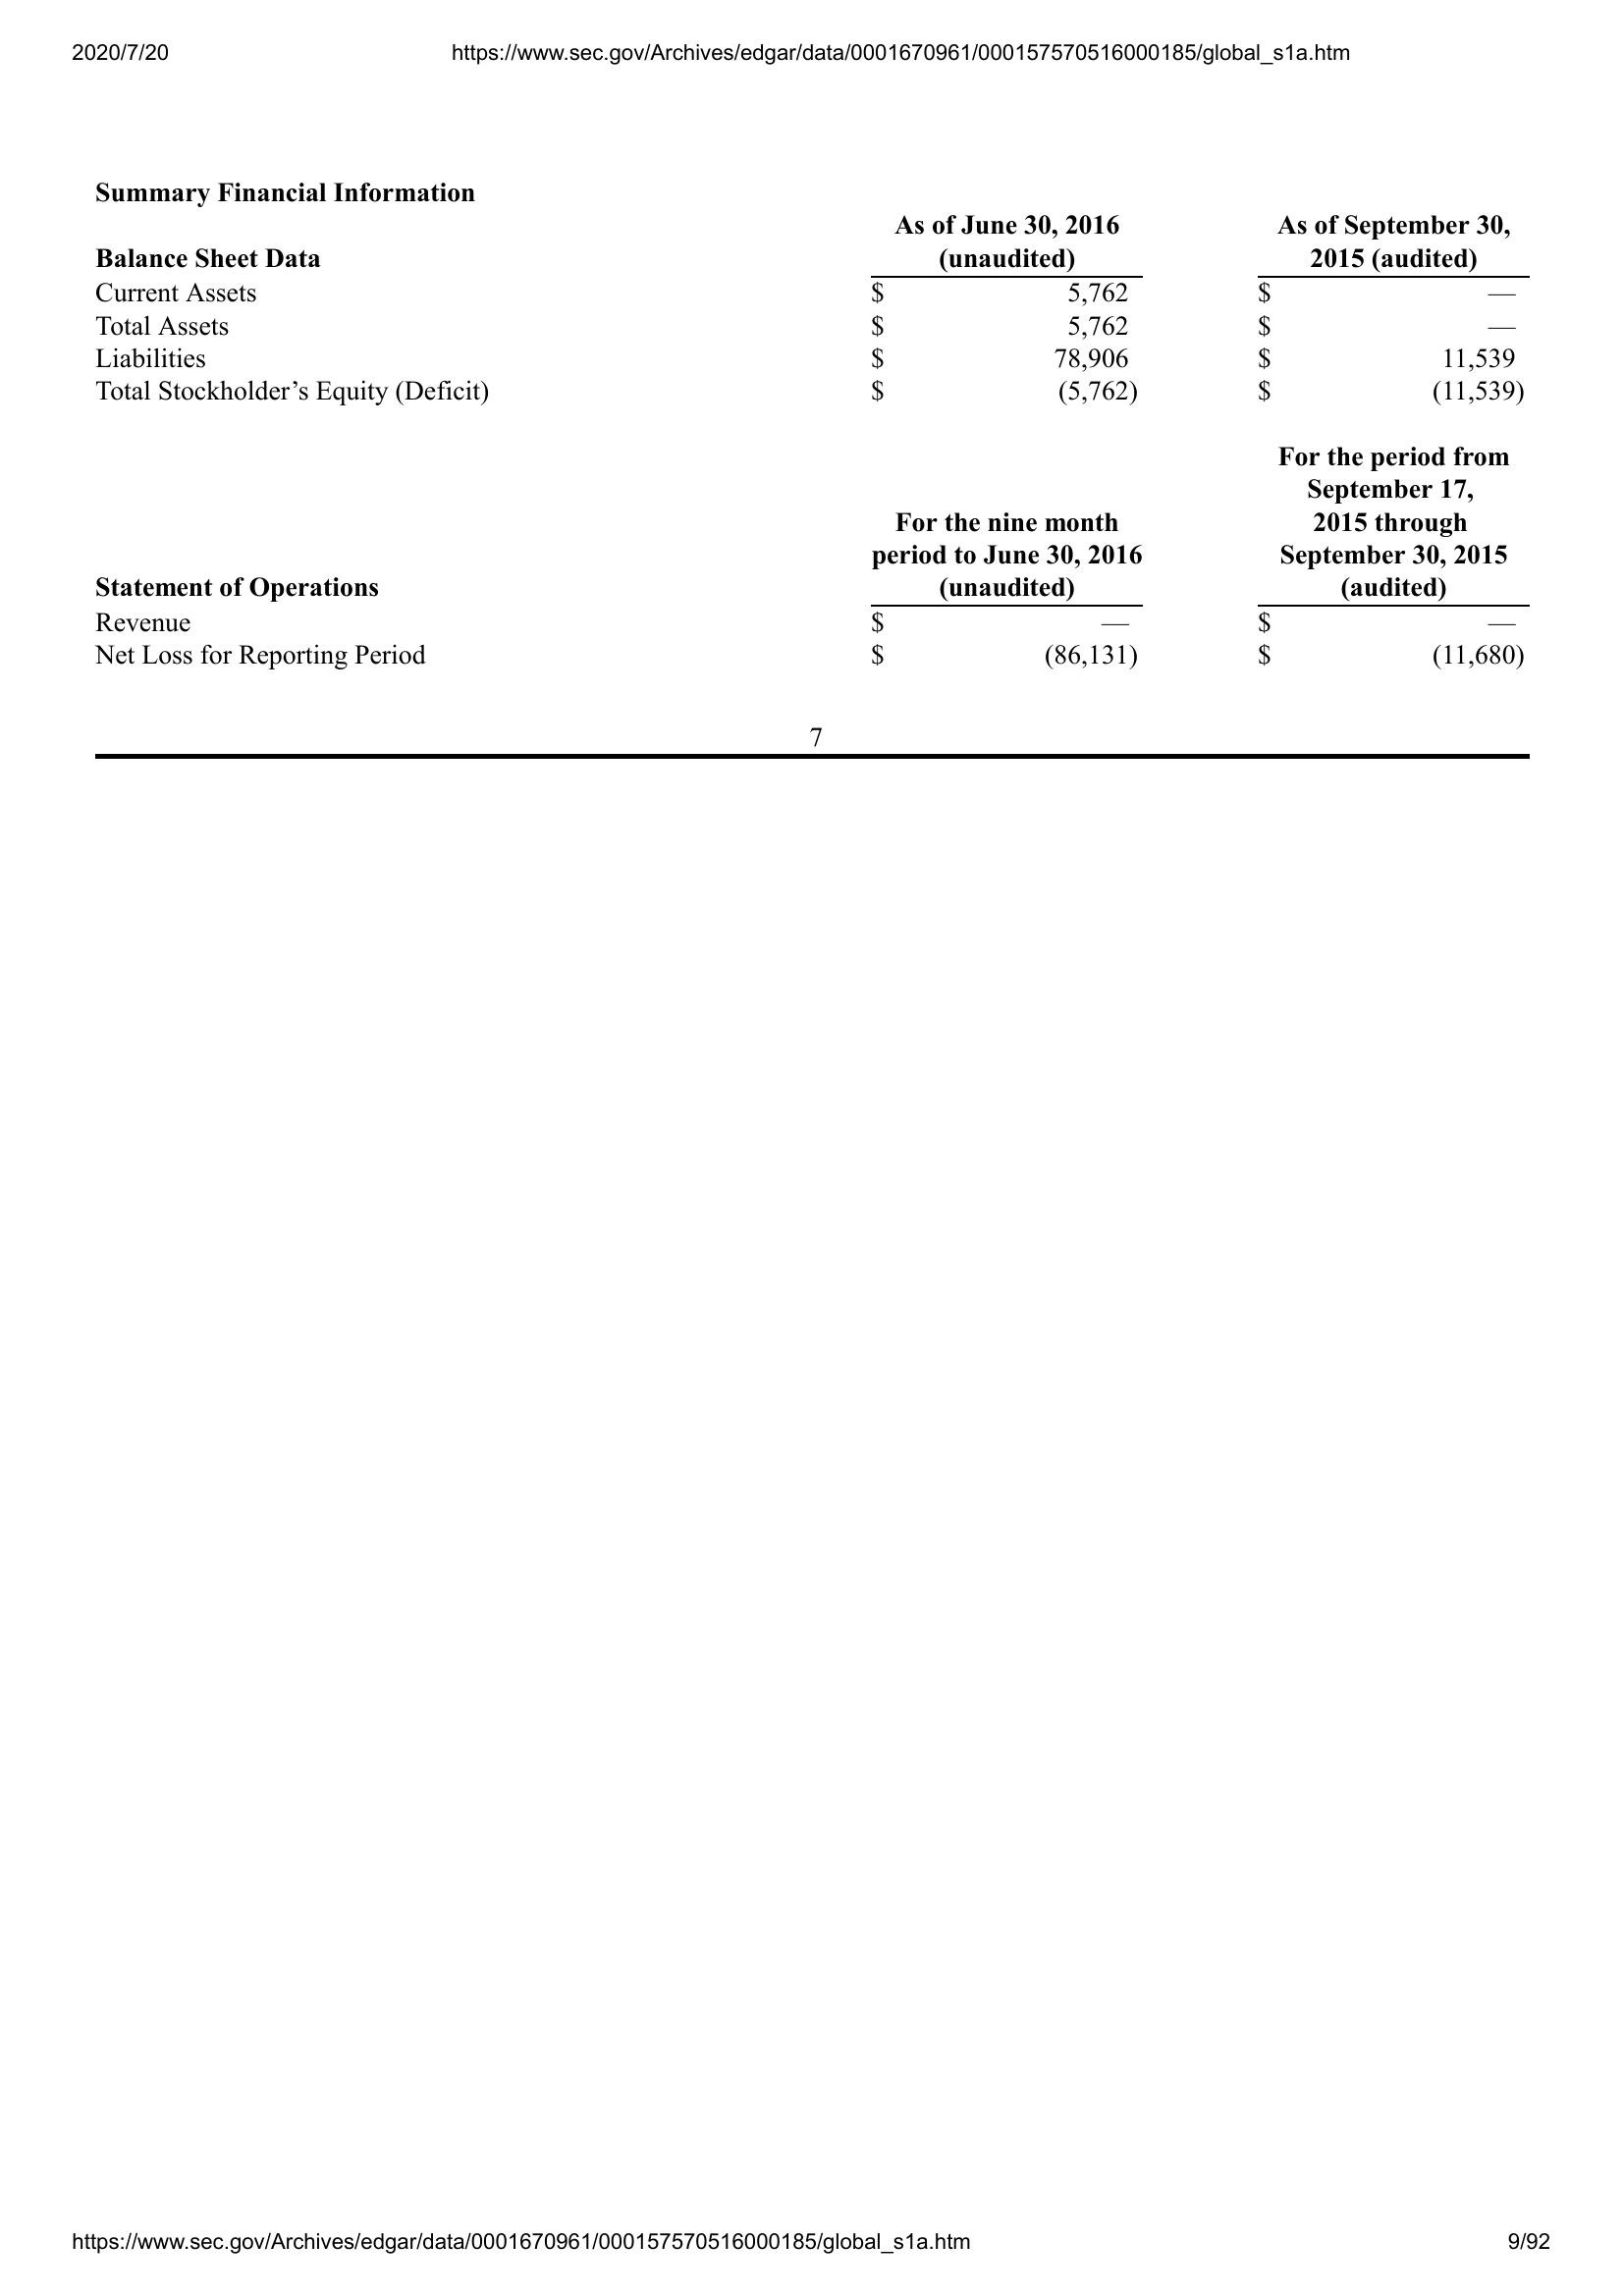table: (86, 211, 1535, 681)
